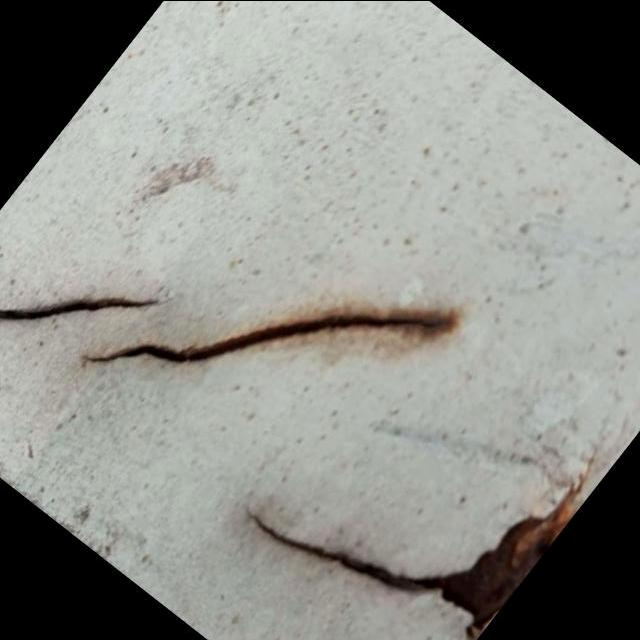defect: (77, 297, 473, 373), (235, 510, 475, 602), (0, 286, 185, 325)
